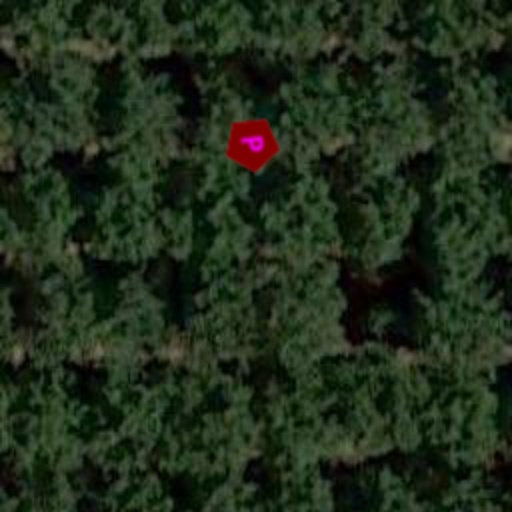pentagon: (218, 110, 286, 178)
